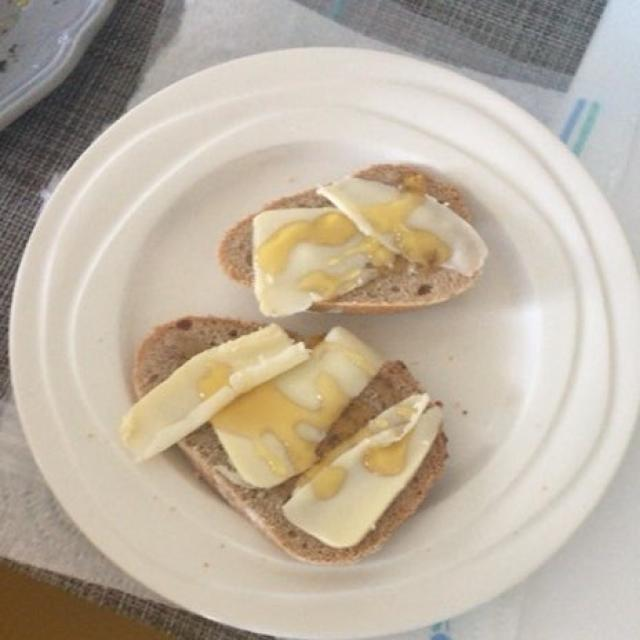bread: (126, 169, 475, 544)
butter: (130, 181, 498, 541)
honey: (206, 195, 449, 501)
